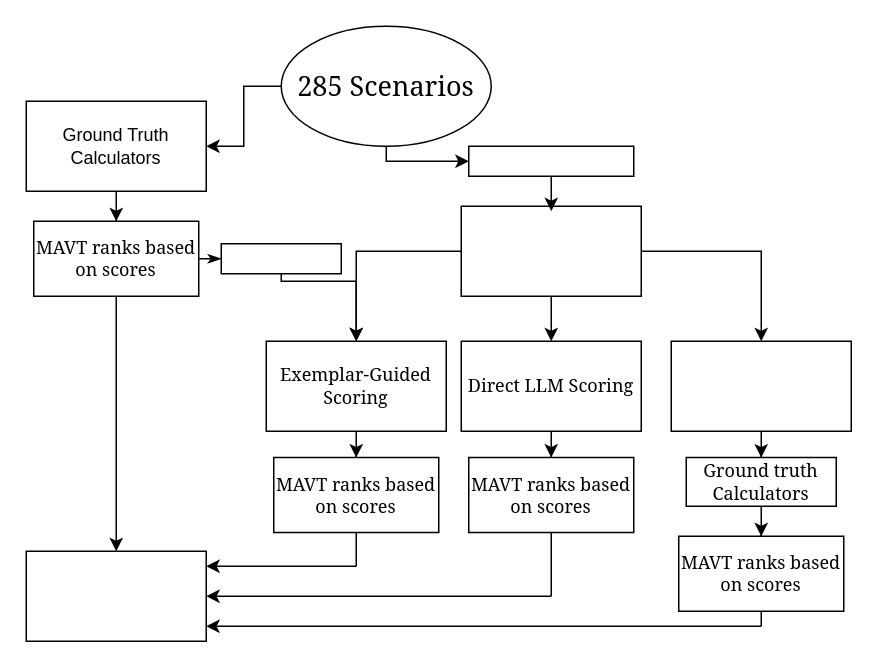
The diagram is 878 pixels wide and 668 high, and some of its shapes have lost their labels. The shapes that lost their labels are listed below. From the top down, each one's centre as x and y in pixels, then its label:
At point (550, 160): "195 Test Scenarios".
At point (280, 258): "90 RAG Scenarios".
At point (550, 250): "Reduced information for Architectures".
At point (760, 385): "LLM-Parameterized Scoring".
At point (115, 595): "Metrics calculated for test scenarios".
